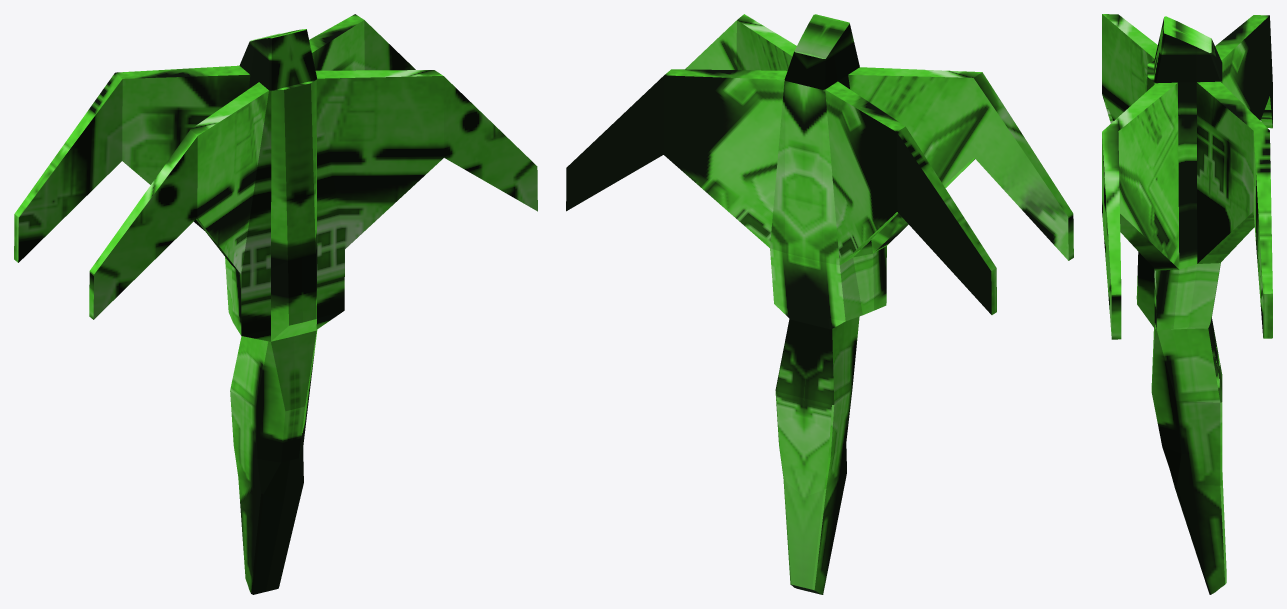
File: weapon_projectile_reflection.fbx
3 renders of one model, left to right at view 1: azimuth 30°, elevation 25°; view 2: azimuth 150°, elevation 25°; view 3: azimuth 270°, elevation 25°, orthographic. The views are drawn at different scales.
Parts seen in each view (by area): view 1: Rumpf_LowPoly; view 2: Rumpf_LowPoly; view 3: Rumpf_LowPoly.
Boxes of the visible parts, x1,y1,x2,y2 form: Rumpf_LowPoly: [14, 14, 537, 594]; Rumpf_LowPoly: [566, 14, 1073, 594]; Rumpf_LowPoly: [1102, 14, 1272, 594].
Bounding box in the file's own units: 209 × 259 × 71.03.
